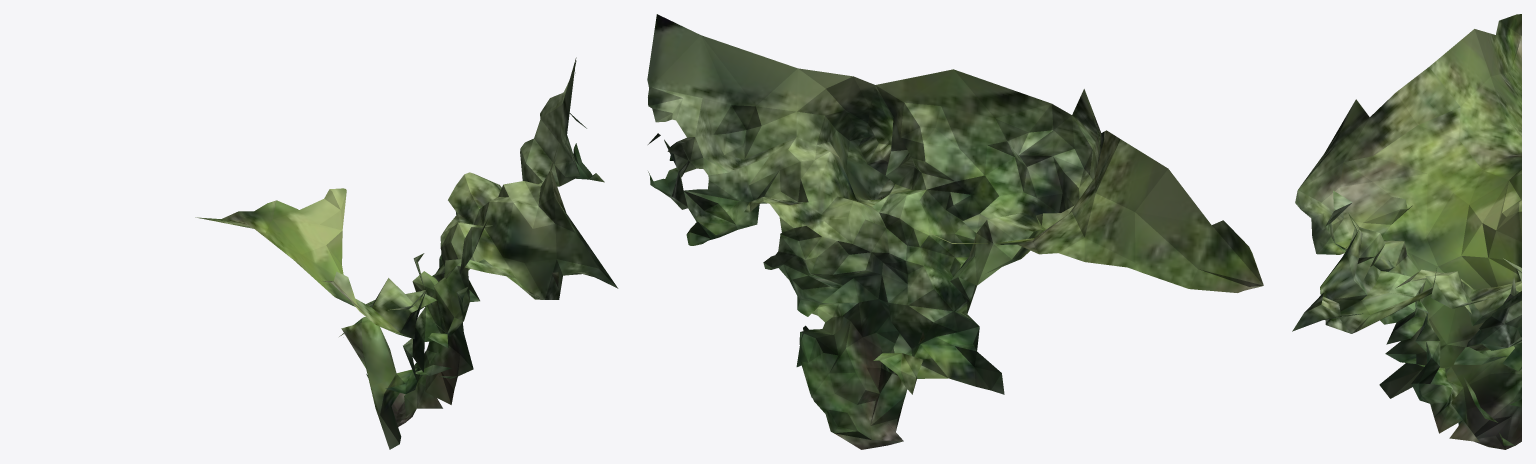
3 renders of one model, left to right at view 1: azimuth 30°, elevation 25°; view 2: azimuth 150°, elevation 25°; view 3: azimuth 270°, elevation 25°, orthographic. The views are drawn at different scales.
Size of the model in its own units: 101 by 60.43 by 37.21.
2 materials, 2 textured.
